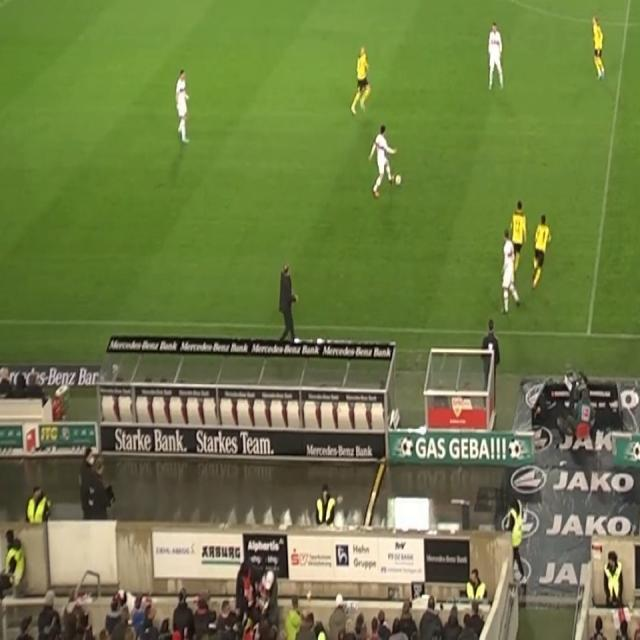ball: (394, 172, 402, 187)
